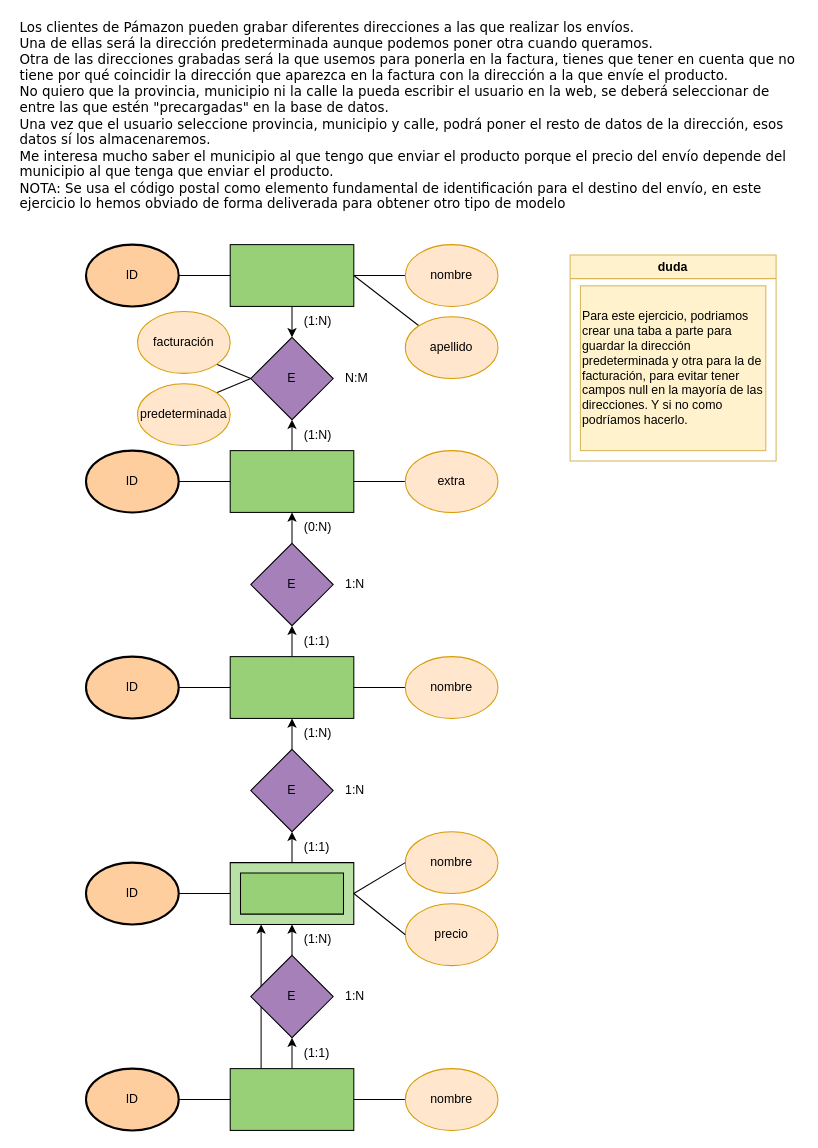
The diagram is 818 pixels wide and 1148 high, and some of its shapes have lost their labels. The shapes that lost their labels are listed below. From the top down, each one's centre as x and y in pixels, then its label:
At [291,275]: "Cliente".
At [291,481]: "Direccion".
At [291,687]: "Calle".
At [291,893]: "Municipio".
At [291,1099]: "Provincia".
